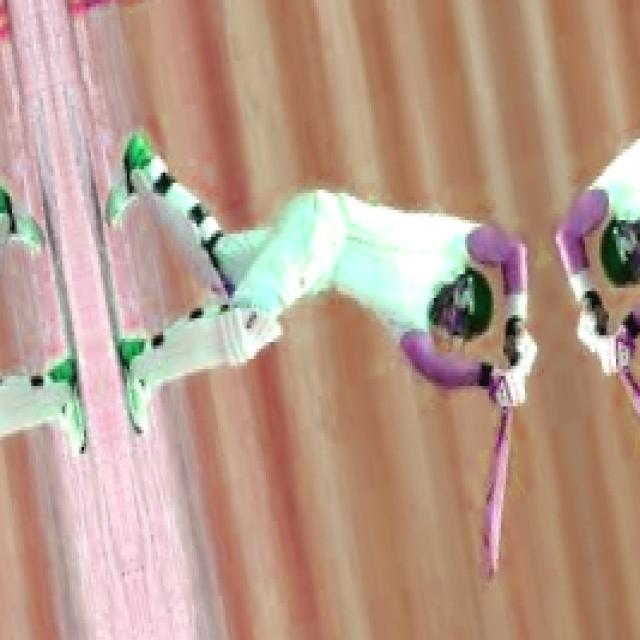bat: (472, 398, 509, 595)
